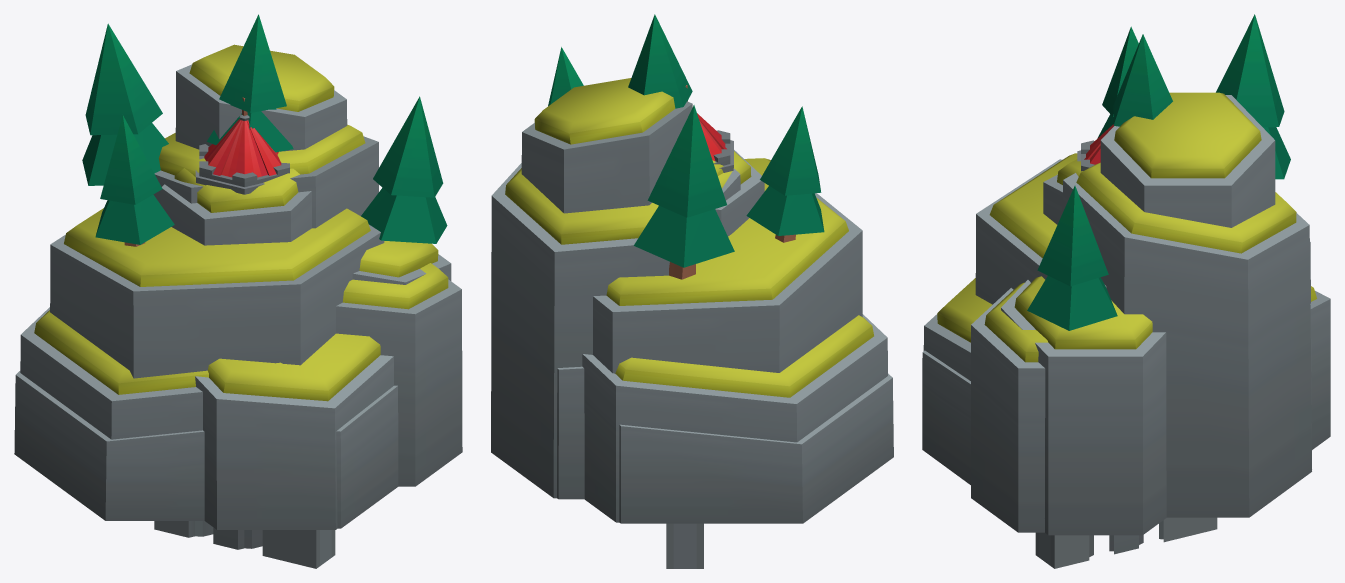
Rendered from medieval-kit.glb.
3 views of the same model, side by side, from view 1: azimuth 30°, elevation 25°; view 2: azimuth 150°, elevation 25°; view 3: azimuth 270°, elevation 25° (orthographic).
Visible parts, largest first — view 1: mountain_A_grass_trees, mountain_B_grass, building_castle_red, building_bridge_A; view 2: mountain_A_grass_trees, mountain_B_grass, building_bridge_A, building_castle_red; view 3: mountain_B_grass, mountain_A_grass_trees, building_bridge_A, building_castle_red.
Part boxes in pixels (box(x1,y1,x2,y2)): mountain_A_grass_trees: box(14, 14, 462, 529); mountain_B_grass: box(20, 44, 451, 528); building_castle_red: box(195, 97, 289, 194); building_bridge_A: box(154, 521, 335, 568); mountain_A_grass_trees: box(548, 14, 893, 523); mountain_B_grass: box(491, 78, 887, 522); building_bridge_A: box(666, 523, 703, 568); building_castle_red: box(685, 85, 733, 172); mountain_B_grass: box(922, 92, 1330, 535); mountain_A_grass_trees: box(923, 14, 1311, 532); building_bridge_A: box(1035, 517, 1217, 568); building_castle_red: box(1077, 124, 1113, 171).
Bounding box in the file's own units: 26.53 × 37.62 × 26.83.
3 materials, 3 textured.
